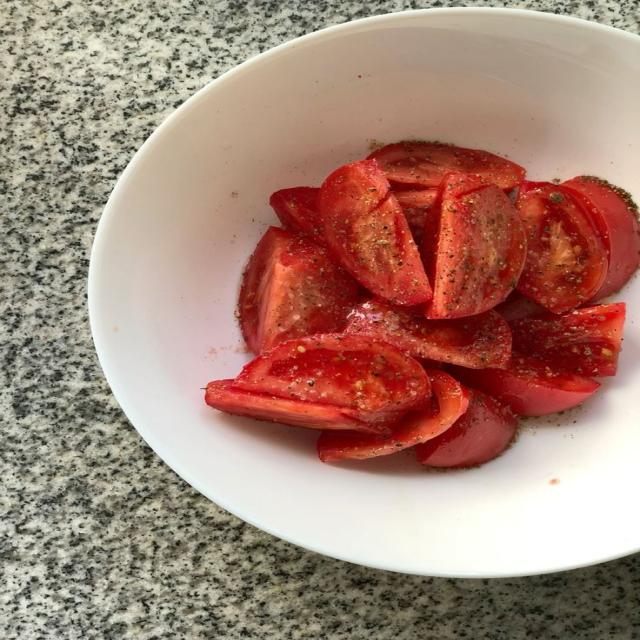sliced tomatoe: (235, 335, 430, 421), (318, 160, 431, 305), (239, 228, 359, 354), (423, 174, 526, 319), (318, 371, 467, 461), (517, 183, 608, 313), (346, 300, 511, 367), (562, 176, 639, 301), (451, 353, 599, 416), (206, 380, 381, 433), (511, 303, 625, 377), (415, 389, 517, 467), (369, 141, 525, 189), (270, 187, 323, 244), (394, 189, 437, 245), (494, 291, 547, 321)
